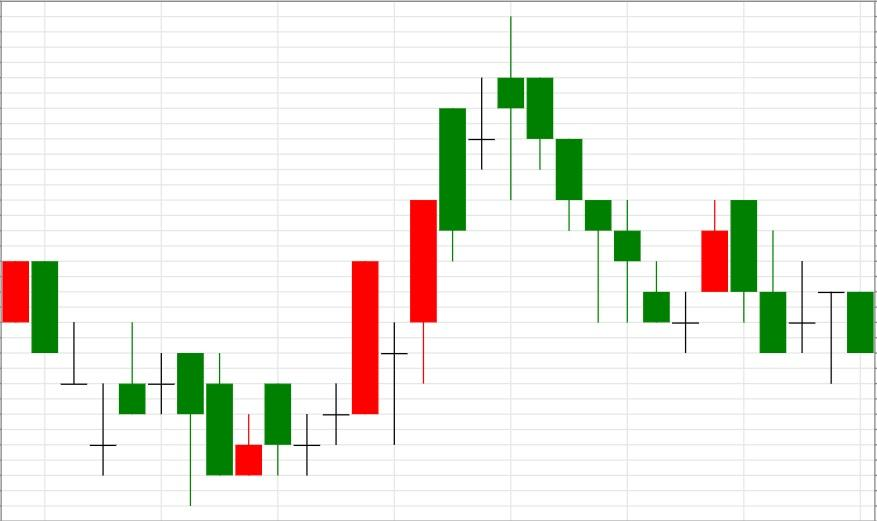three_black_crows_fall: (205, 16, 612, 477)
